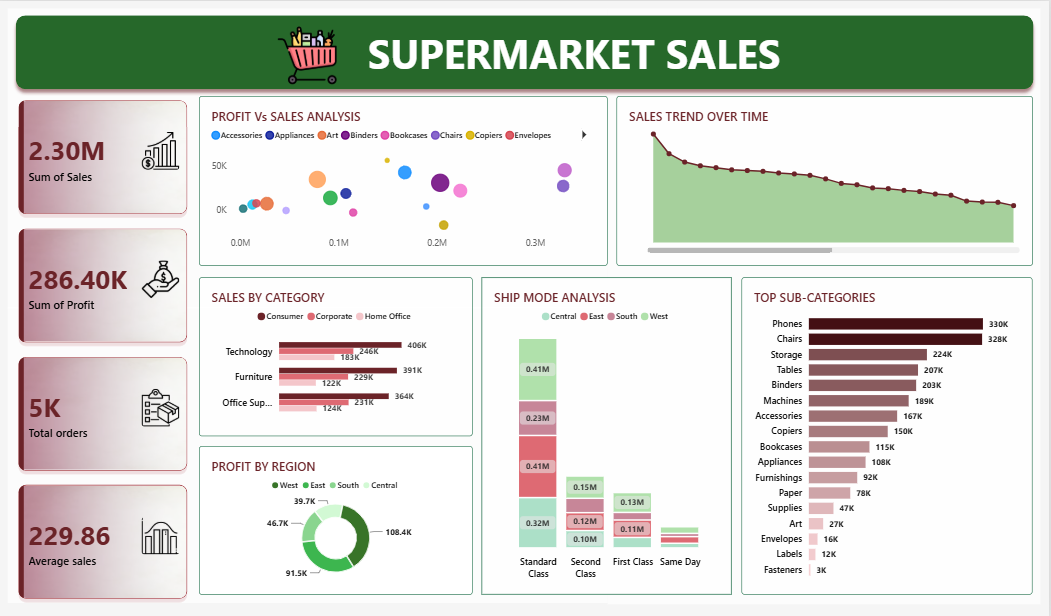

The page's visual inventory and layout, read from the dashboard file:
{"tool":"powerbi","page":{"name":"Page 1","canvas":[1400,820],"ordinal":0},"visuals":[{"type":"shape","box":[11.4,10,800,400],"z":0},{"type":"shape","box":[811.4,10,577.1,794.3],"z":1000},{"type":"shape","box":[12.9,10,1375.7,142.9],"z":2000},{"type":"shape","box":[11.4,408.6,800,394.3],"z":3000},{"type":"textbox","box":[550,34,440,94],"z":4000},{"type":"cardVisual","fields":{"Data":["Sum(Sheet1.Sales)","Sum(Sheet1.Profit)","supermarket_sales.Total orders","supermarket_sales.Average sales"]},"box":[12,152,244,652],"z":5000},{"type":"lineChart","title":"SALES TREND OVER TIME","fields":{"Category":["supermarket_sales.Month year"],"Y":["Sum(supermarket_sales.Sales)"]},"box":[826,152,552,202],"z":6000},{"type":"donutChart","title":"PROFIT BY REGION","fields":{"Category":["supermarket_sales.Region"],"Y":["Sum(supermarket_sales.Profit)"]},"box":[266.7,593.3,365,198.3],"z":7000},{"type":"clusteredBarChart","title":"SALES BY CATEGORY","fields":{"Category":["supermarket_sales.Category"],"Series":["supermarket_sales.Segment"],"Y":["Sum(supermarket_sales.Sales)"]},"box":[266.7,368.3,365,211.7],"z":8000},{"type":"image","box":[435,33.3,115,78.3],"z":9000},{"type":"clusteredBarChart","title":"TOP SUB-CATEGORIES","fields":{"Category":["supermarket_sales.Sub-Category"],"Y":["Sum(supermarket_sales.Sales)"]},"box":[990,368.3,388.3,423.3],"z":10000},{"type":"scatterChart","title":"PROFIT Vs SALES ANALYSIS","fields":{"Series":["supermarket_sales.Sub-Category"],"Size":["Sum(supermarket_sales.Quantity)"],"X":["Sum(supermarket_sales.Sales)"],"Y":["Sum(supermarket_sales.Profit)"]},"box":[266,152,546,202],"z":11000},{"type":"columnChart","title":"SHIP MODE ANALYSIS","fields":{"Category":["supermarket_sales.Ship Mode"],"Series":["supermarket_sales.Region"],"Y":["Sum(supermarket_sales.Sales)"]},"box":[643.3,368.3,333.3,423.3],"z":13000}]}

Visuals, with their boxes in screenshot pixels (x1, y1, x2, y2), scaled from the page's 1400x820 canvas onto the 1051x616 screenshot:
shape: region(9, 8, 609, 308)
shape: region(609, 8, 1042, 604)
shape: region(10, 8, 1042, 115)
shape: region(9, 307, 609, 603)
textbox: region(413, 26, 743, 96)
cardVisual - Sum(Sheet1.Sales) x Sum(Sheet1.Profit): region(9, 114, 192, 604)
"SALES TREND OVER TIME" lineChart: region(620, 114, 1034, 266)
"PROFIT BY REGION" donutChart: region(200, 446, 474, 595)
"SALES BY CATEGORY" clusteredBarChart: region(200, 277, 474, 436)
image: region(327, 25, 413, 84)
"TOP SUB-CATEGORIES" clusteredBarChart: region(743, 277, 1035, 595)
"PROFIT Vs SALES ANALYSIS" scatterChart: region(200, 114, 610, 266)
"SHIP MODE ANALYSIS" columnChart: region(483, 277, 733, 595)
